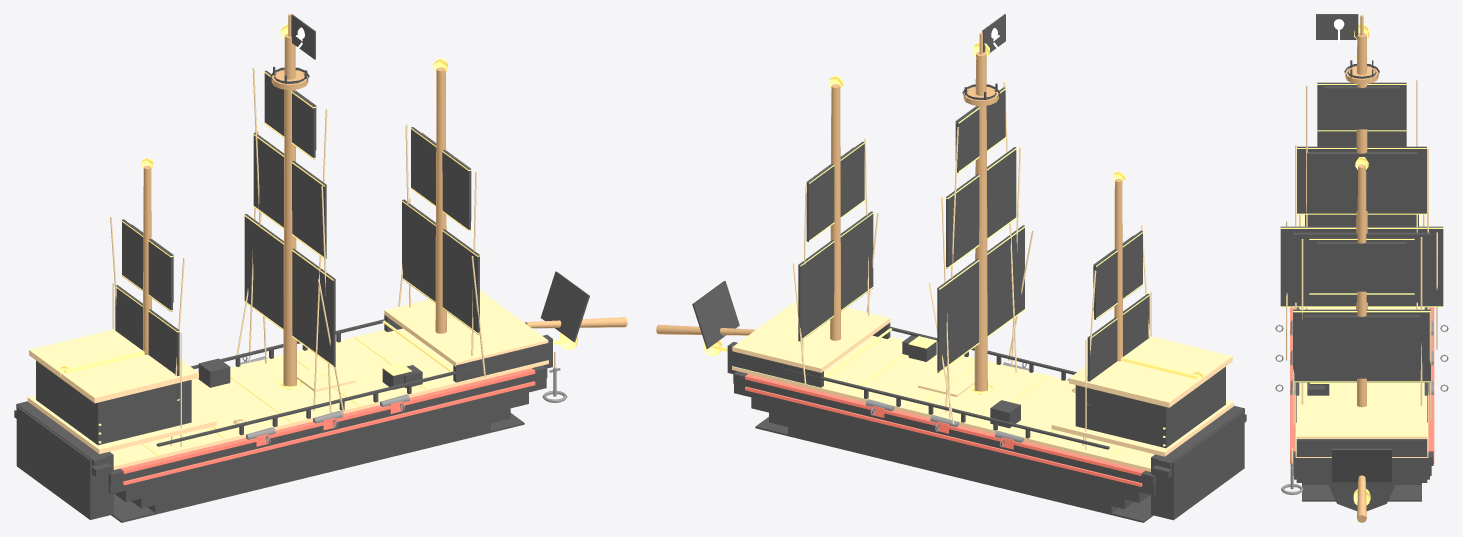
Rendered from 06_shipwreck-shore.glb.
3 renders of one model, left to right at view 1: azimuth 30°, elevation 25°; view 2: azimuth 150°, elevation 25°; view 3: azimuth 270°, elevation 25°, orthographic. The views are drawn at different scales.
Visible parts, largest first — view 1: sail, hull_dark, deck, mast, hull_plank, red_band, gold, rope, cannon; view 2: sail, hull_dark, deck, mast, hull_plank, red_band, gold, rope, cannon; view 3: sail, deck, hull_dark, mast, rope, gold, red_band, hull_plank, flag, cannon.
Boxes of the visible parts, x1=… form: sail: x1=115, y1=70, x2=589, y2=400; hull_dark: x1=16, y1=66, x2=552, y2=522; deck: x1=27, y1=290, x2=548, y2=469; mast: x1=143, y1=14, x2=627, y2=389; hull_plank: x1=14, y1=319, x2=547, y2=484; red_band: x1=120, y1=368, x2=535, y2=485; gold: x1=35, y1=24, x2=577, y2=455; rope: x1=110, y1=67, x2=555, y2=447; cannon: x1=240, y1=356, x2=567, y2=444; sail: x1=692, y1=87, x2=1149, y2=405; hull_dark: x1=727, y1=79, x2=1244, y2=522; deck: x1=732, y1=299, x2=1233, y2=471; mast: x1=656, y1=33, x2=1122, y2=394; hull_plank: x1=733, y1=327, x2=1246, y2=485; red_band: x1=745, y1=374, x2=1144, y2=486; gold: x1=703, y1=42, x2=1226, y2=457; rope: x1=792, y1=81, x2=1151, y2=449; cannon: x1=865, y1=362, x2=1068, y2=447; sail: x1=1280, y1=82, x2=1443, y2=482; deck: x1=1295, y1=214, x2=1428, y2=457; hull_dark: x1=1293, y1=60, x2=1431, y2=510; mast: x1=1345, y1=15, x2=1378, y2=522; rope: x1=1286, y1=80, x2=1437, y2=463; gold: x1=1280, y1=24, x2=1443, y2=505; red_band: x1=1290, y1=307, x2=1434, y2=463; hull_plank: x1=1290, y1=307, x2=1433, y2=465; flag: x1=1316, y1=14, x2=1358, y2=39; cannon: x1=1275, y1=320, x2=1448, y2=494.
Bounding box in the file's own units: 34.1 × 25.35 × 9.82.
